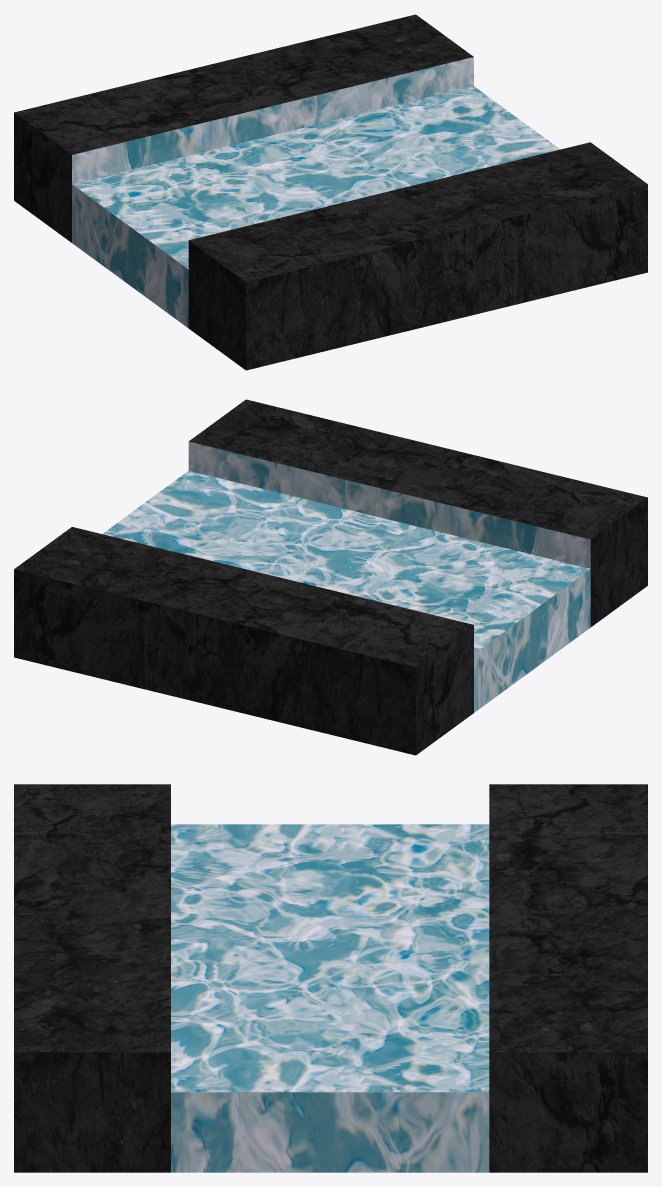
The model's file is AllyPath41.fbx.
3 renders of one model, top to bottom at view 1: azimuth 30°, elevation 25°; view 2: azimuth 150°, elevation 25°; view 3: azimuth 270°, elevation 25°, orthographic. The views are drawn at different scales.
Parts seen in each view (by area): view 1: AllyPath41; view 2: AllyPath41; view 3: AllyPath41.
Boxes of the visible parts, x1,y1,x2,y2 form: AllyPath41: [14, 14, 647, 370]; AllyPath41: [14, 399, 647, 755]; AllyPath41: [14, 784, 647, 1172].
Bounding box in the file's own units: 100 × 20.97 × 100.
Materials: 2 (2 with a texture image).
